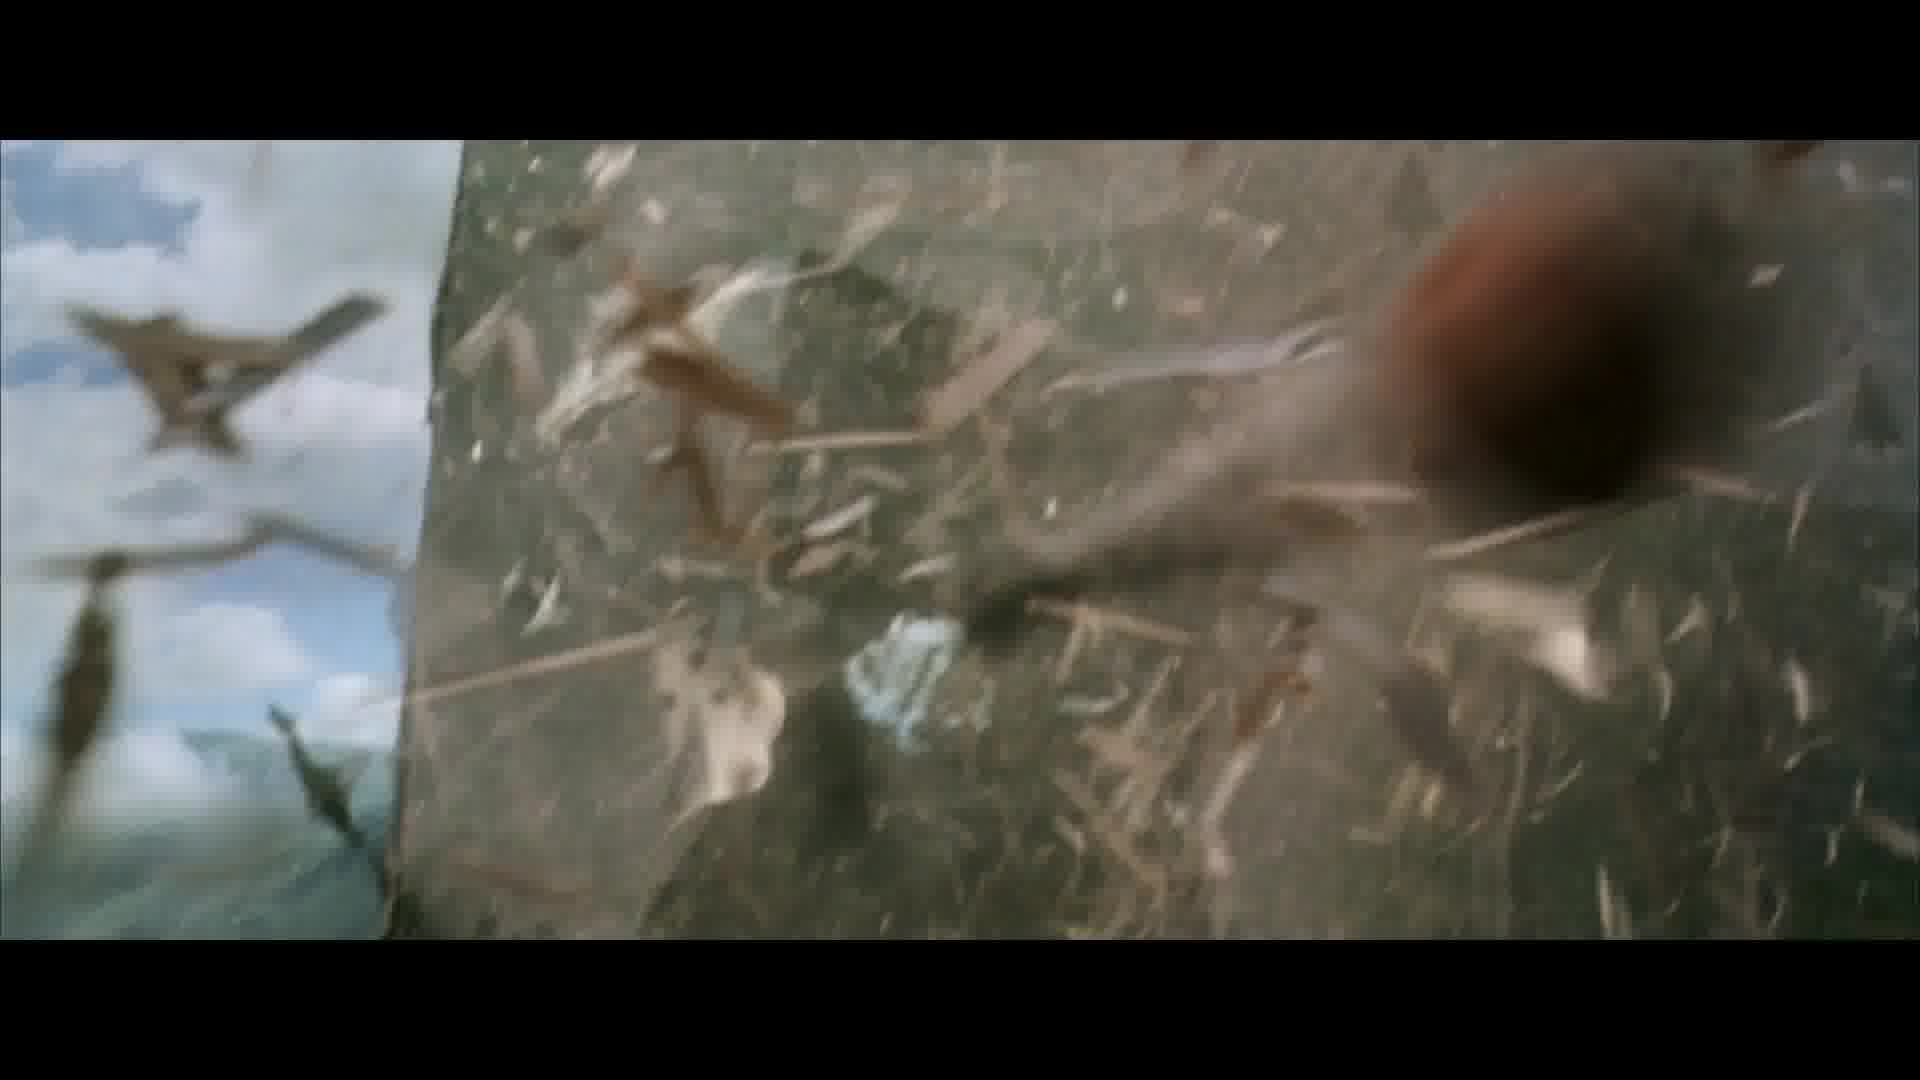bludger: (1377, 186, 1741, 539)
